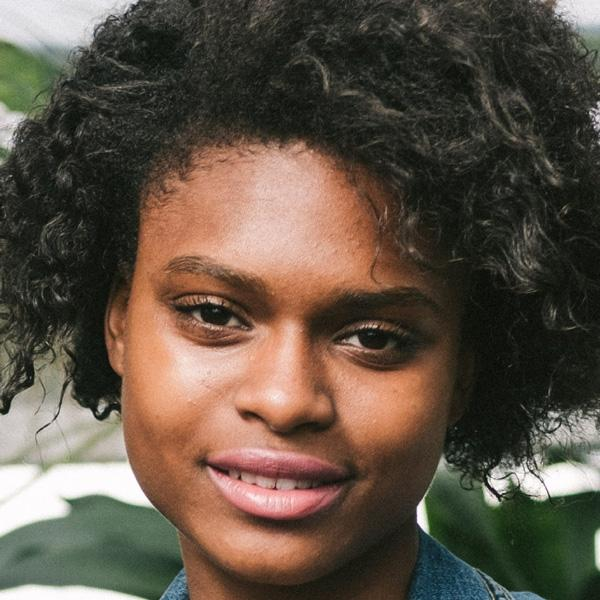Eyes: (160, 280, 258, 346), (327, 310, 417, 369)
